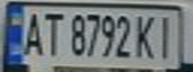2: (115, 11, 136, 60)
7: (81, 10, 100, 57)
8: (66, 10, 87, 57)
9: (100, 11, 118, 58)
A: (18, 8, 45, 57)
I: (154, 12, 181, 61)
K: (133, 11, 160, 60)
T: (39, 9, 66, 57)
